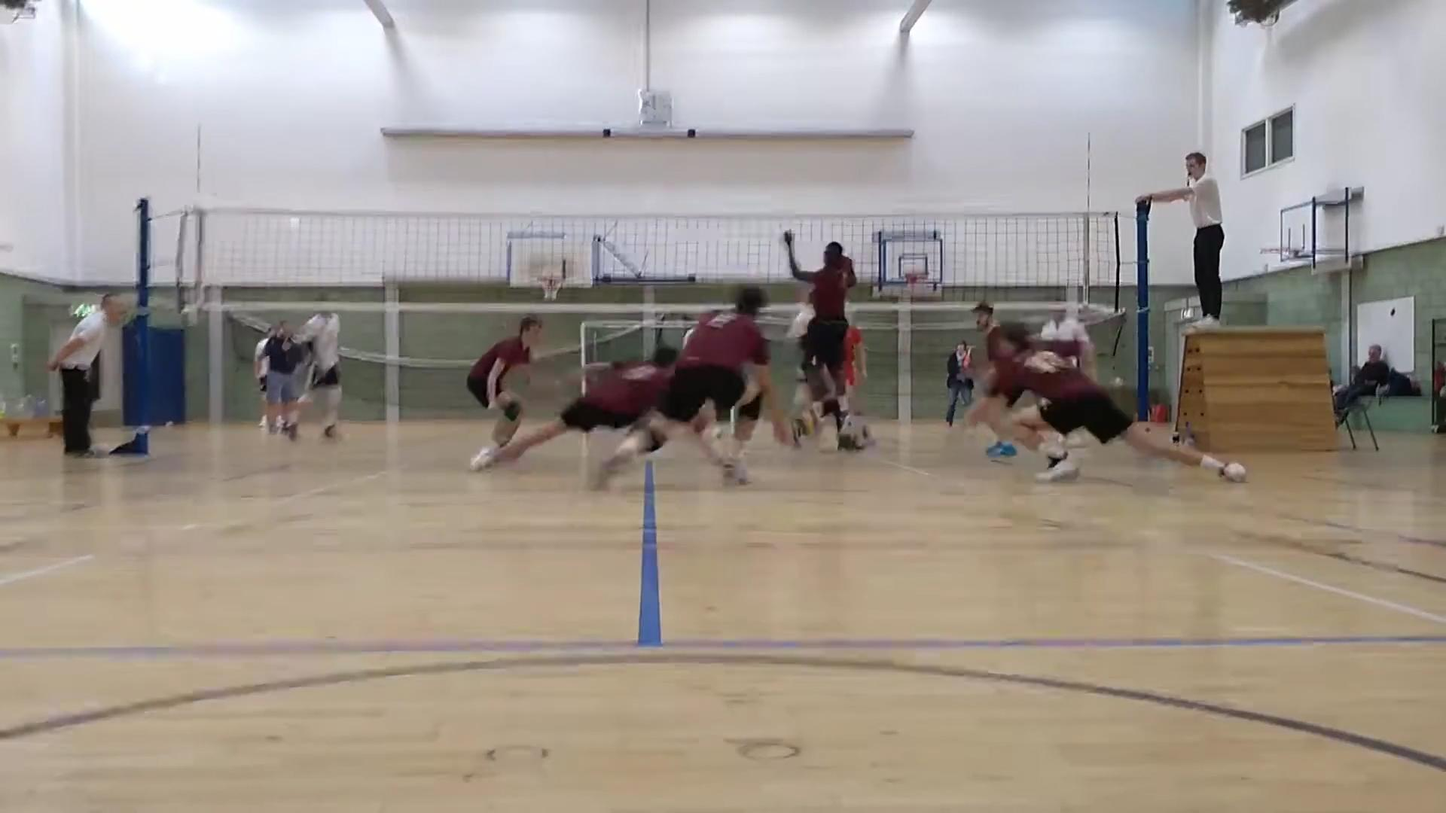difesa: (962, 305, 1263, 492)
